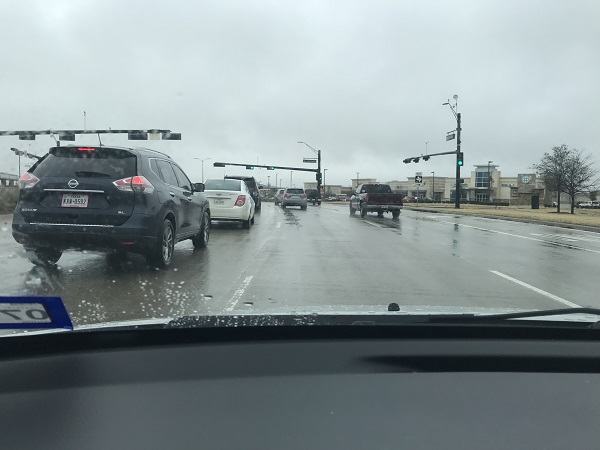car: (15, 143, 211, 265), (202, 180, 254, 221), (282, 187, 308, 210)
truck: (349, 183, 402, 220)
